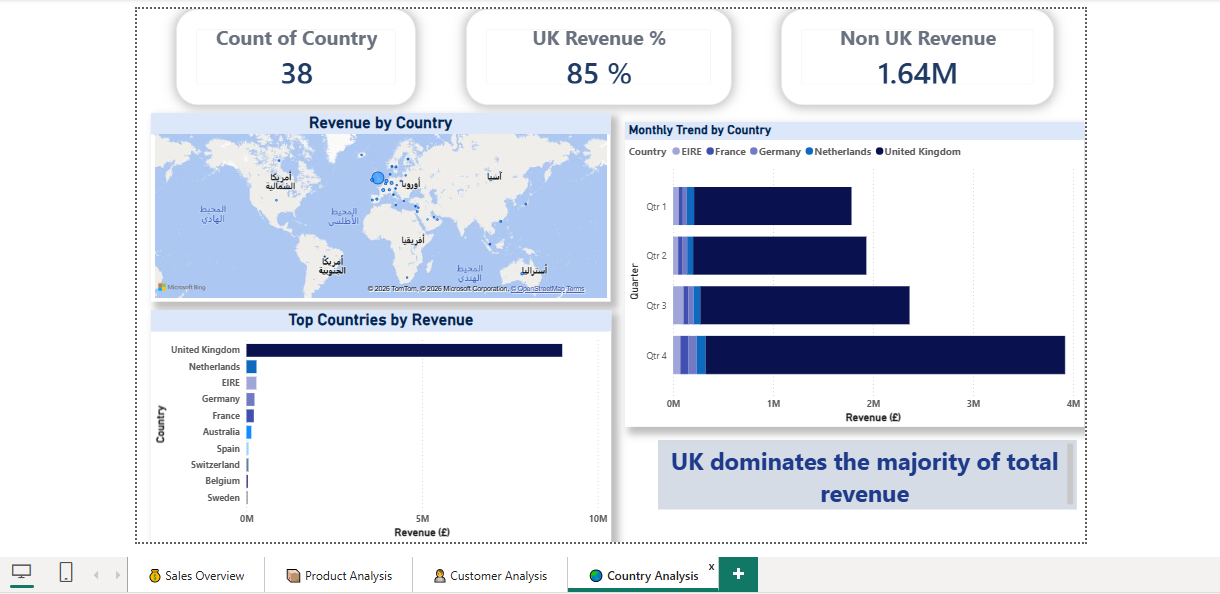

The page's visual inventory and layout, read from the dashboard file:
{"tool":"powerbi","page":{"name":"🌏 Country Analysis","canvas":[1280,720],"ordinal":3},"visuals":[{"type":"textbox","box":[704.2,581.8,565.9,93.6],"z":0},{"type":"cardVisual","fields":{"Data":["Count(sales dateset.country)"]},"box":[53.3,0,324,129.6],"z":1000},{"type":"cardVisual","fields":{"Data":["sales dateset.UK Revenue %"]},"box":[445,0,358.6,129.6],"z":2000},{"type":"map","title":"Revenue by Country","fields":{"Category":["sales dateset.country"],"Size":["Sum(sales dateset.total_price)"]},"box":[18.7,141.1,620.6,254.9],"z":3000},{"type":"barChart","title":"Top Countries by Revenue","fields":{"Category":["sales dateset.country"],"Y":["Sum(sales dateset.total_price)"]},"box":[18.9,406.8,621.6,313.5],"z":4000},{"type":"cardVisual","fields":{"Data":["Customer Summary.Non UK Revenue"]},"box":[869.8,0,368.6,129.6],"z":5000},{"type":"barChart","title":"Monthly Trend by Country","fields":{"Category":["sales dateset.month_year.Variation.Date Hierarchy.Year","sales dateset.month_year.Variation.Date Hierarchy.Quarter","sales dateset.month_year.Variation.Date Hierarchy.Month","sales dateset.month_year.Variation.Date Hierarchy.Day"],"Y":["Sum(sales dateset.total_price)"],"Series":["sales dateset.country"]},"box":[659.5,152.6,620.6,411.8],"z":5001}]}

Visuals, with their boxes on the page's 1280x720 design canvas (x1, y1, x2, y2). These are canvas units, not pixel positions in the 1220x594 screenshot, which may show the page scaled, cropped or inside an application window:
textbox: <box>704,582,1270,675</box>
cardVisual - Count(sales dateset.country): <box>53,0,377,130</box>
cardVisual - sales dateset.UK Revenue %: <box>445,0,804,130</box>
"Revenue by Country" map: <box>19,141,639,396</box>
"Top Countries by Revenue" barChart: <box>19,407,640,720</box>
cardVisual - Customer Summary.Non UK Revenue: <box>870,0,1238,130</box>
"Monthly Trend by Country" barChart: <box>660,153,1280,564</box>
